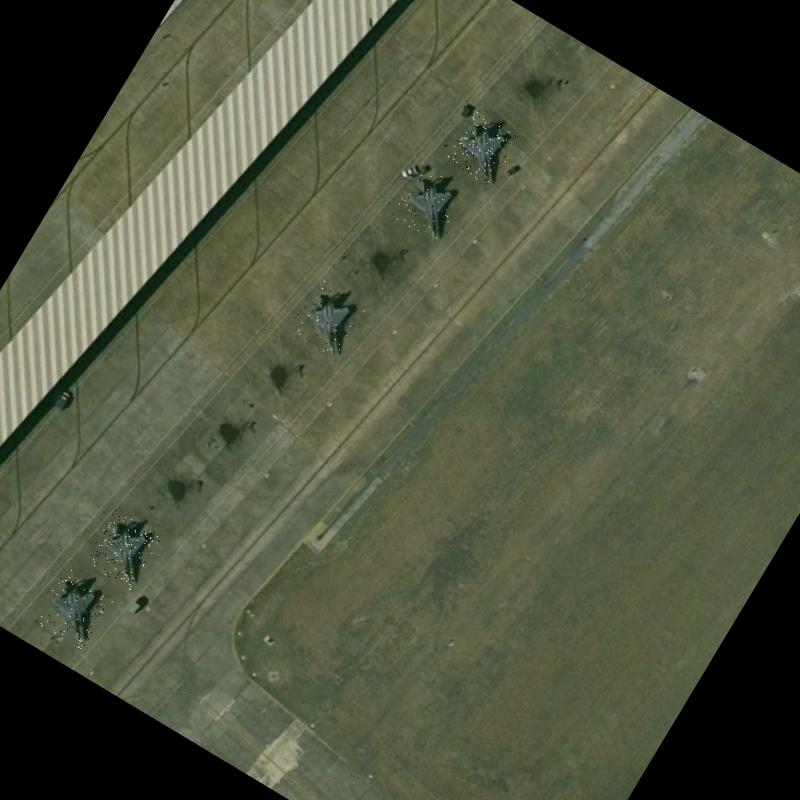A13: (32, 566, 116, 652), (286, 276, 368, 360), (83, 508, 162, 590), (389, 164, 466, 244), (444, 110, 520, 188)
